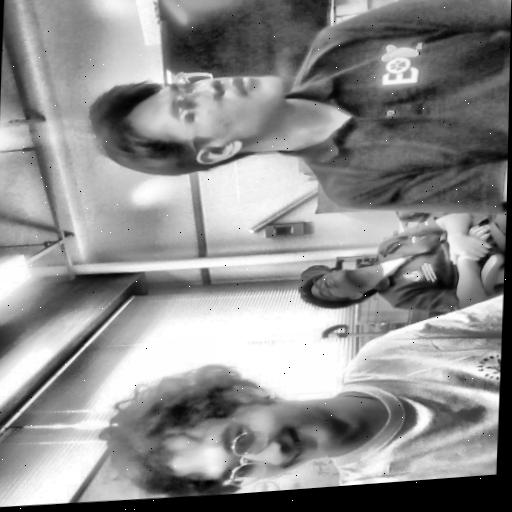Daifuku: (104, 345, 338, 503)
Not Daifuku: (86, 54, 300, 188), (294, 256, 382, 312)
